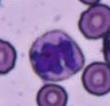N: (29, 30, 84, 82)
